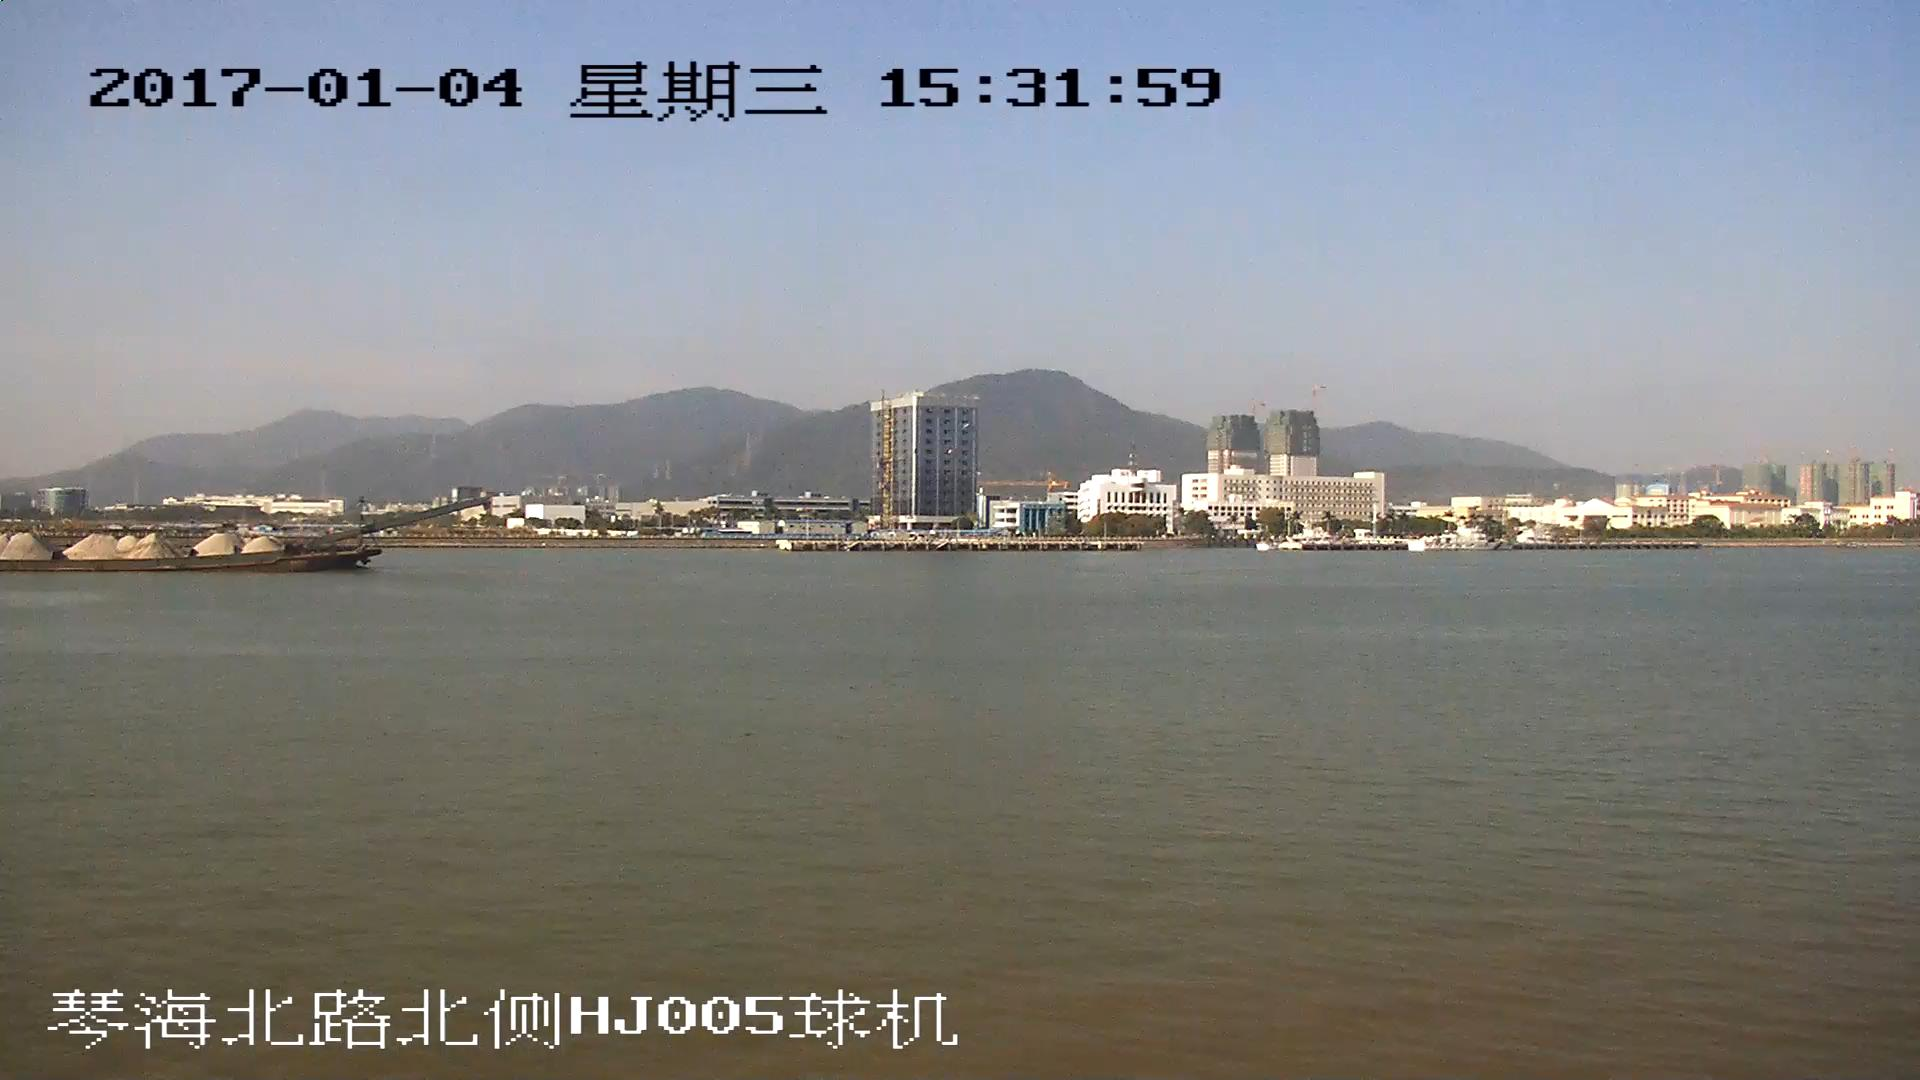ore carrier: (1, 498, 489, 572)
